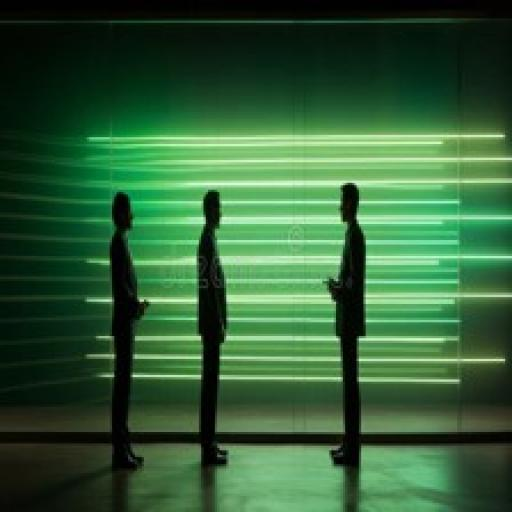human: (313, 167, 387, 474), (100, 186, 151, 471), (187, 184, 238, 468)
